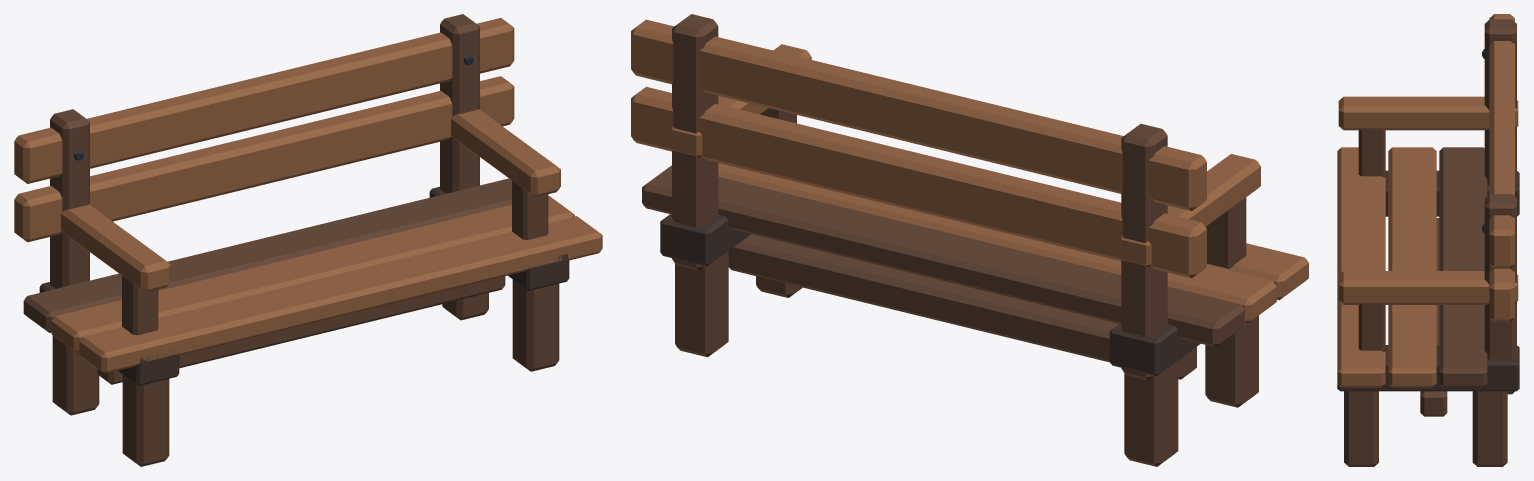
File: EG_Banco.fbx
The picture shows the model from 3 angles, left to right: view 1: azimuth 30°, elevation 25°; view 2: azimuth 150°, elevation 25°; view 3: azimuth 270°, elevation 25°; orthographic projection. The views are drawn at different scales.
Visible parts, largest first — view 1: EG_Banco; view 2: EG_Banco; view 3: EG_Banco.
Part boxes in pixels (x1,y1,x2,y2): EG_Banco: (14,14,602,466); EG_Banco: (631,14,1308,466); EG_Banco: (1337,14,1519,466).
Size of the model in its own units: 1.98 by 1.09 by 0.68.
Materials: 1 (1 with a texture image).
